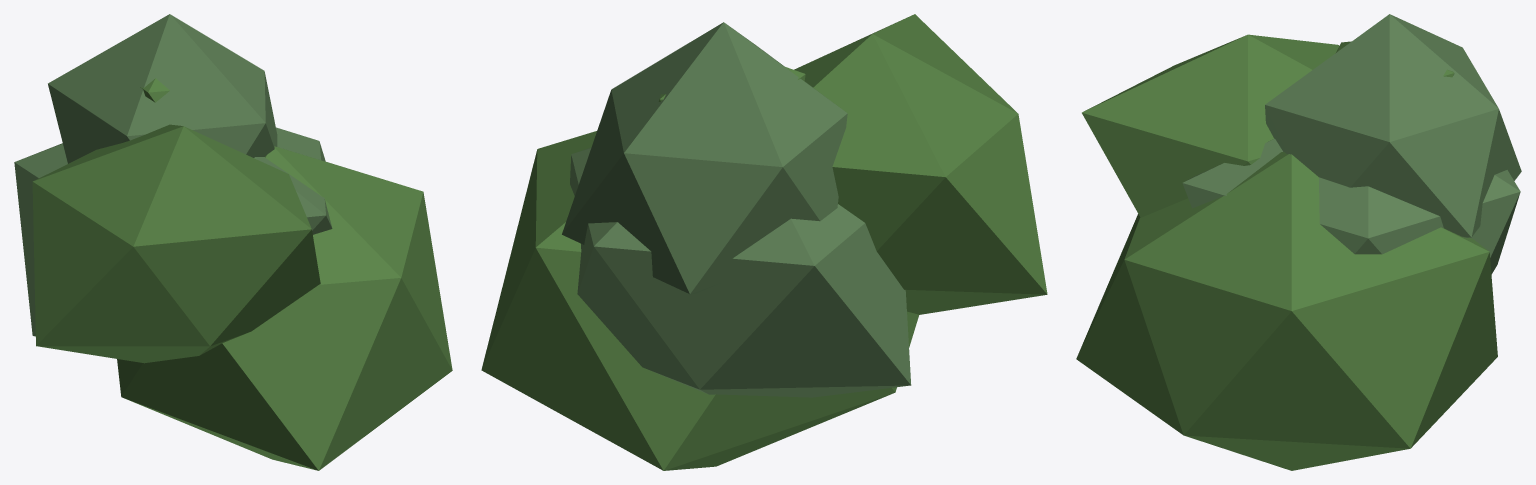
3 views of the same model, side by side, from view 1: azimuth 30°, elevation 25°; view 2: azimuth 150°, elevation 25°; view 3: azimuth 270°, elevation 25° (orthographic). The views are drawn at different scales.
Visible parts, largest first — view 1: en_1; view 2: en_1; view 3: en_1.
Part boxes in pixels (bbox=[...]): en_1: bbox=[14, 14, 452, 470]; en_1: bbox=[481, 14, 1047, 470]; en_1: bbox=[1076, 14, 1521, 470].
Size of the model in its own units: 1.49 by 1.48 by 1.39.
